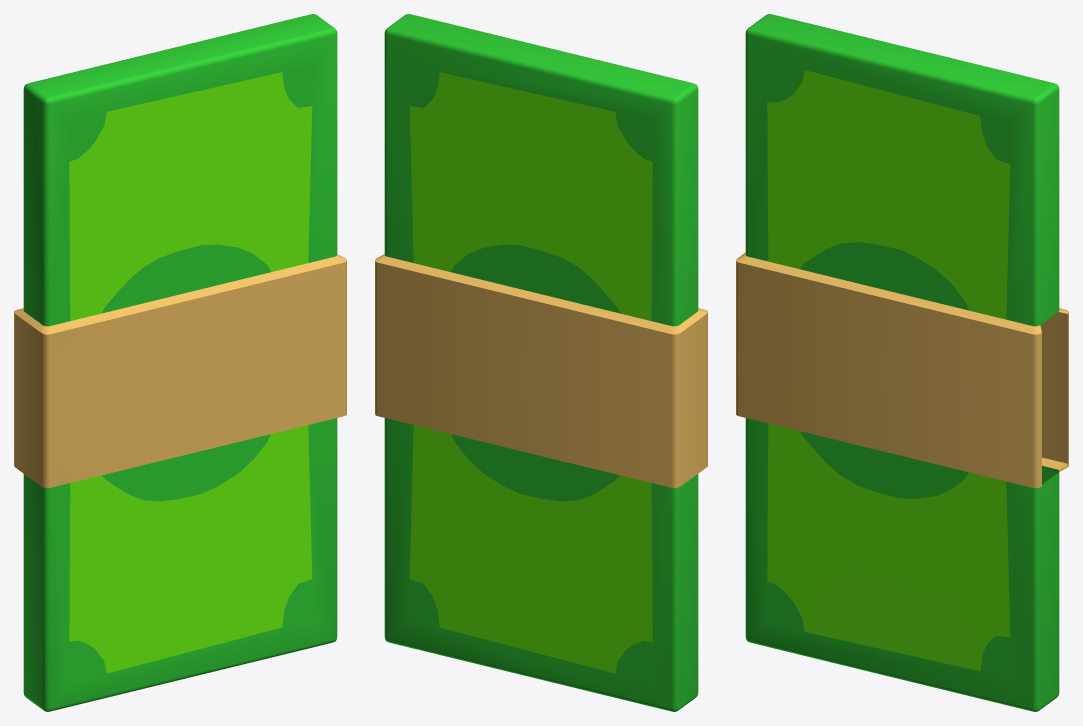
The model's file is money.fbx.
3 views of the same model, side by side, from view 1: azimuth 30°, elevation 25°; view 2: azimuth 150°, elevation 25°; view 3: azimuth 330°, elevation 25° (orthographic).
Parts seen in each view (by area): view 1: Money; view 2: Money; view 3: Money.
Part boxes in pixels (bbox=[...]): Money: bbox=[14, 14, 346, 711]; Money: bbox=[375, 14, 707, 711]; Money: bbox=[736, 14, 1068, 711].
Bounding box in the file's own units: 248 × 477 × 47.21.
